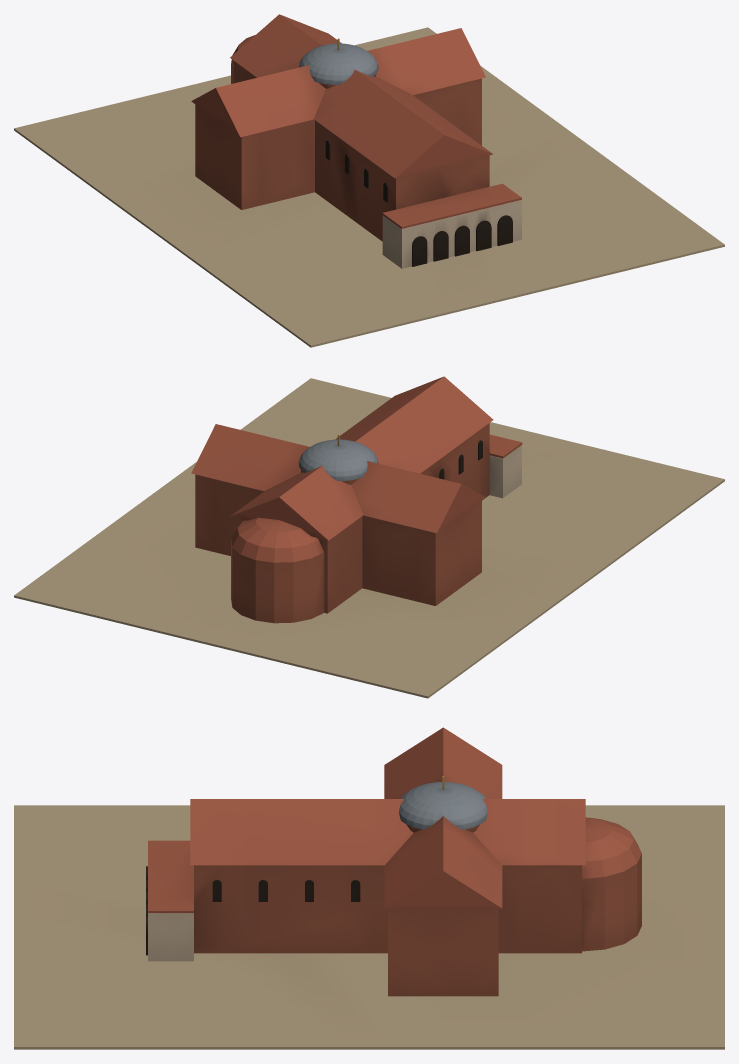
The model's file is san-marco-832.glb.
3 renders of one model, top to bottom at view 1: azimuth 30°, elevation 25°; view 2: azimuth 150°, elevation 25°; view 3: azimuth 270°, elevation 25°, orthographic. The views are drawn at different scales.
Parts seen in each view (by area): view 1: p0_walls, p1_roofs, p2_dome; view 2: p0_walls, p1_roofs, p2_dome; view 3: p0_walls, p1_roofs, p2_dome.
Boxes of the visible parts, bbox=[...] form: p0_walls: bbox=[14, 27, 724, 347]; p1_roofs: bbox=[191, 14, 521, 228]; p2_dome: bbox=[299, 38, 378, 88]; p0_walls: bbox=[14, 378, 724, 698]; p1_roofs: bbox=[191, 376, 522, 562]; p2_dome: bbox=[298, 434, 378, 484]; p0_walls: bbox=[14, 805, 724, 1049]; p1_roofs: bbox=[148, 727, 641, 913]; p2_dome: bbox=[399, 776, 487, 832].
Bounding box in the file's own units: 62 × 18.23 × 77.
